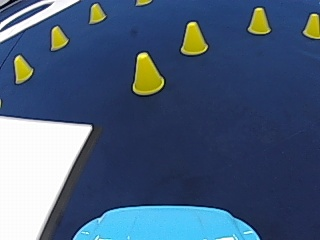cone: (131, 50, 164, 95), (179, 20, 208, 55), (246, 6, 271, 35), (12, 53, 33, 82), (49, 25, 68, 49), (302, 12, 319, 38), (88, 2, 106, 24)
